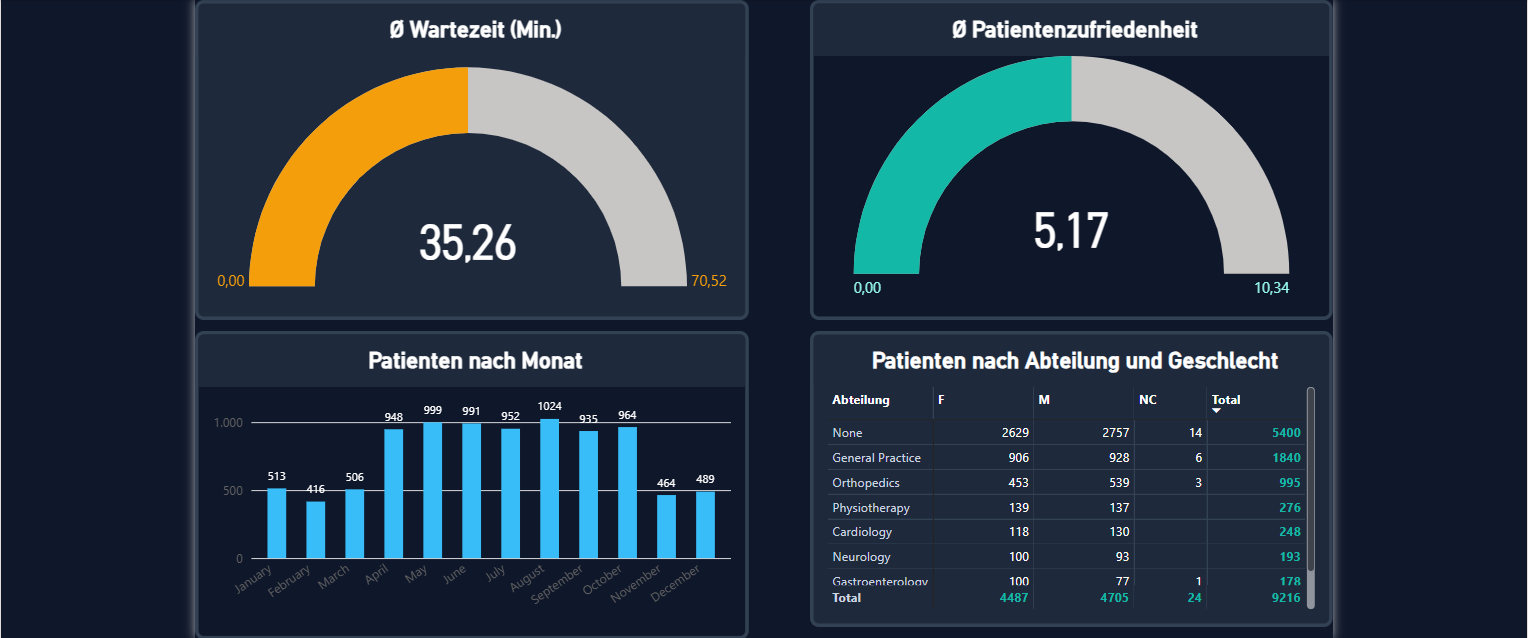

This screenshot's page, from the dashboard's own definition file:
{"tool":"powerbi","page":{"name":"Abteilungsanalyse","canvas":[1280,720],"ordinal":1},"visuals":[{"type":"gauge","title":"Ø Wartezeit (Min.)","fields":{"Y":["Avg(Data.patient_waittime)"]},"box":[0,1.1,623.2,360],"z":0},{"type":"gauge","title":"Ø Patientenzufriedenheit","fields":{"Y":["Avg(Data.patient_sat_score)"]},"box":[691.9,1.1,588.4,360],"z":1000},{"type":"pivotTable","title":"Patienten nach Abteilung und Geschlecht","fields":{"Columns":["Data.patient_gender"],"Rows":["Data.department_referral"],"Values":["CountNonNull(Data.department_referral)"]},"box":[691.9,373.5,588.4,333],"z":2000},{"type":"columnChart","title":"Patienten nach Monat","fields":{"Category":["Data.date.Variation.Date Hierarchy.Month"],"Y":["CountNonNull(Data.patient_id)"]},"box":[0,373.5,623.2,346.5],"z":3000}]}

Visuals, with their boxes on the page's 1280x720 design canvas (x1, y1, x2, y2). These are canvas units, not pixel positions in the 1528x638 screenshot, which may show the page scaled, cropped or inside an application window:
"Ø Wartezeit (Min.)" gauge: locate(0, 1, 623, 361)
"Ø Patientenzufriedenheit" gauge: locate(692, 1, 1280, 361)
"Patienten nach Abteilung und Geschlecht" pivotTable: locate(692, 374, 1280, 706)
"Patienten nach Monat" columnChart: locate(0, 374, 623, 720)
